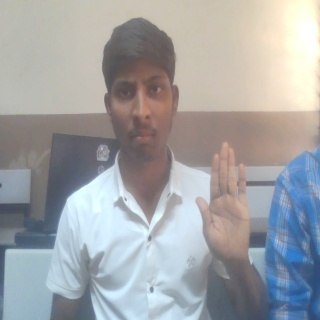Face: (98, 14, 182, 166)
Hello: (192, 140, 252, 270)
